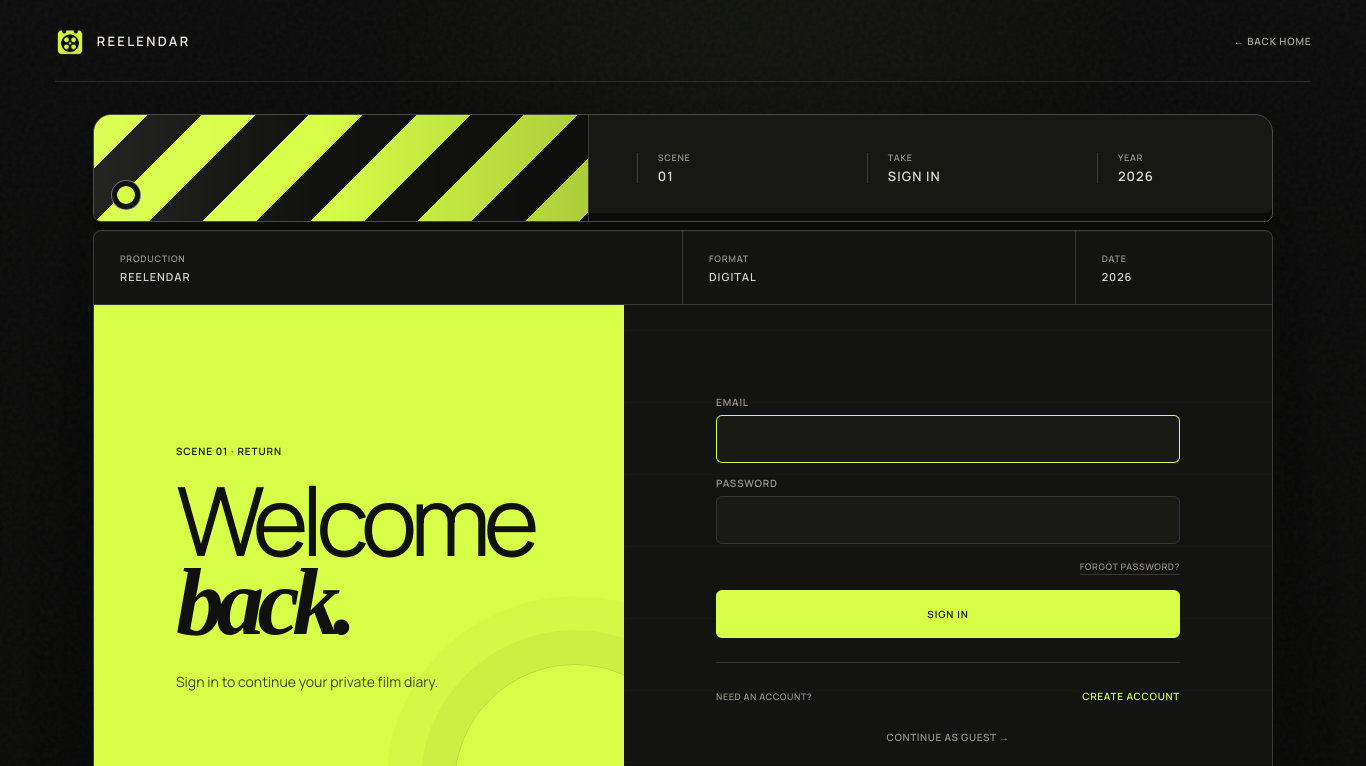
Test: LoginPage account recovery and registration › shows a success toast after creating an account that needs email confirmation
This screenshot has width=1366, height=766.
Click the button "CREATE ACCOUNT".
click(1131, 696)  # box [1082,684,1180,708]
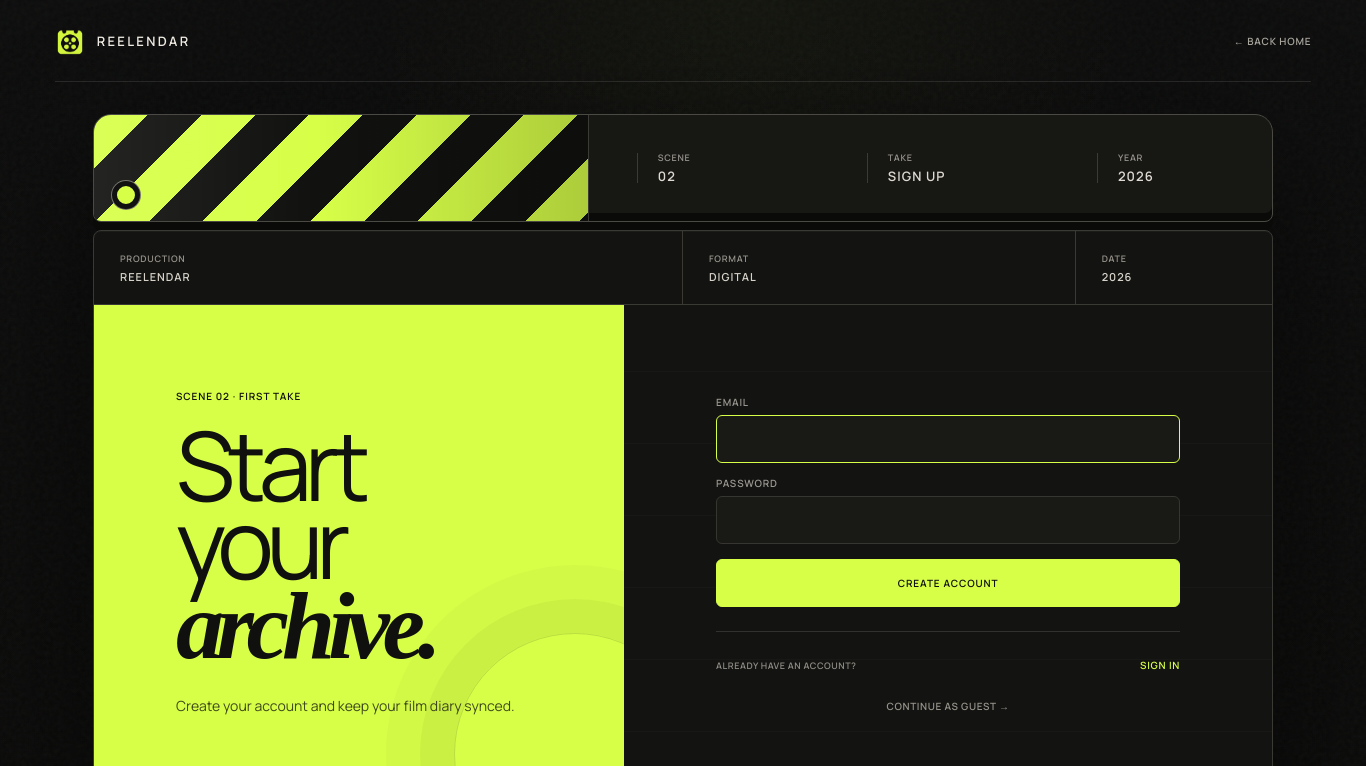
Type "viewer@example.com" into the field labelled "EMAIL".
click(948, 439); type("viewer@example.com")  # box [716,415,1180,463]
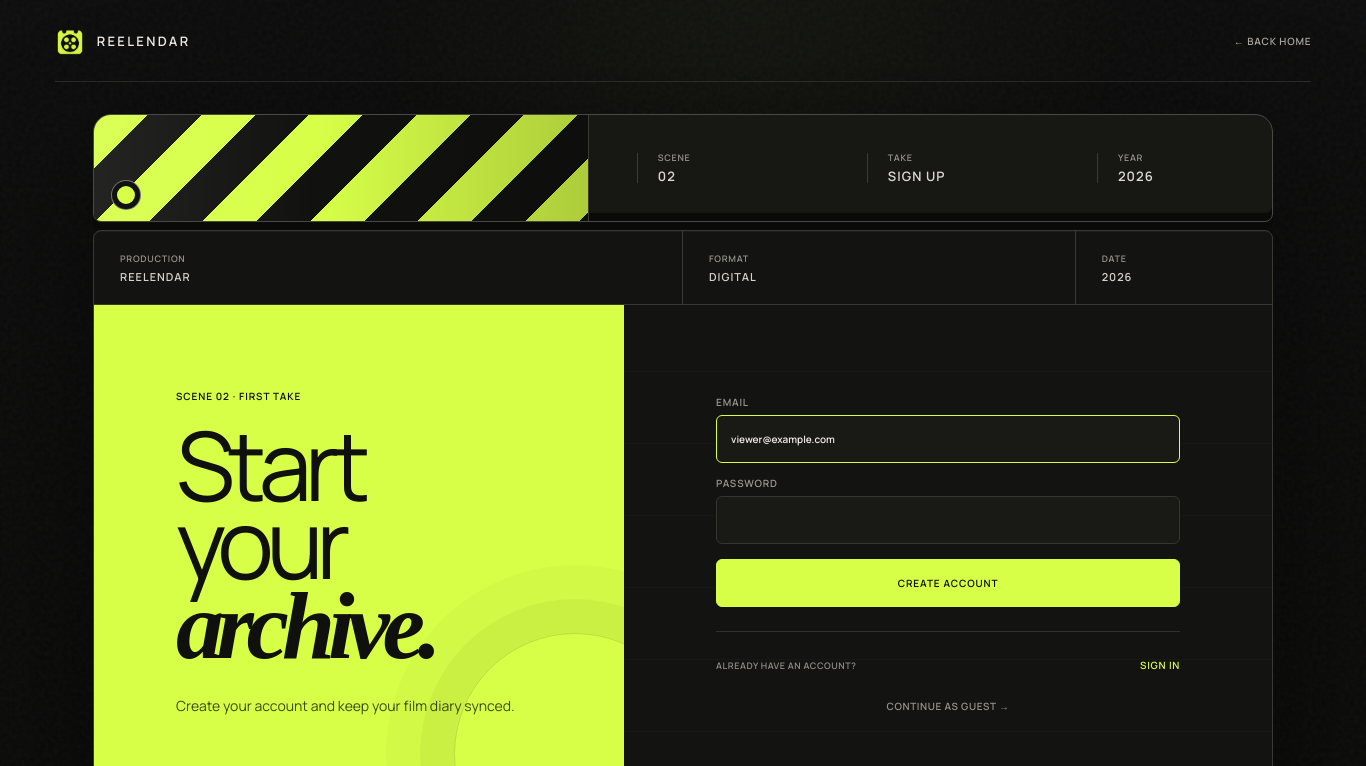
Type "a-secure-password" into the password field labelled "PASSWORD".
click(948, 520); type("a-secure-password")  # box [716,496,1180,544]
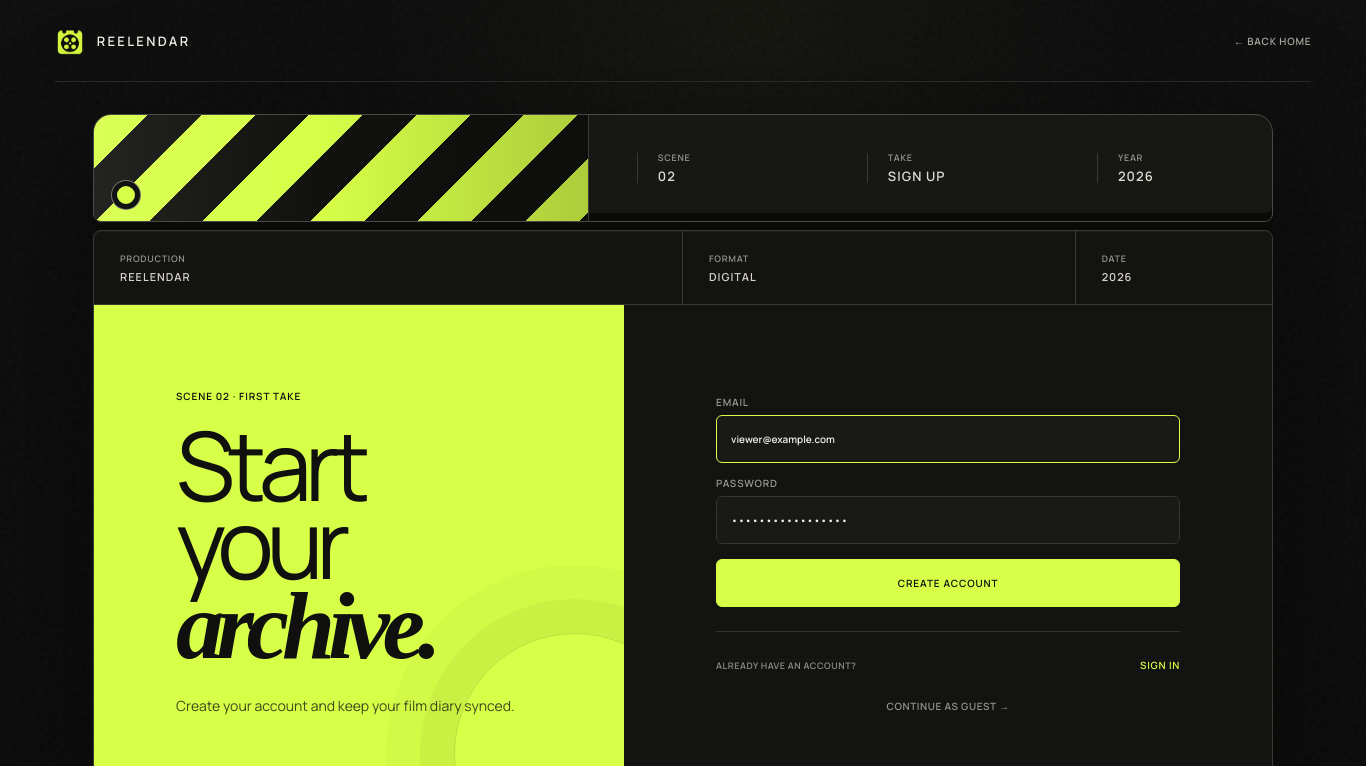
Click the button "CREATE ACCOUNT".
click(948, 583)  # box [716,559,1180,607]
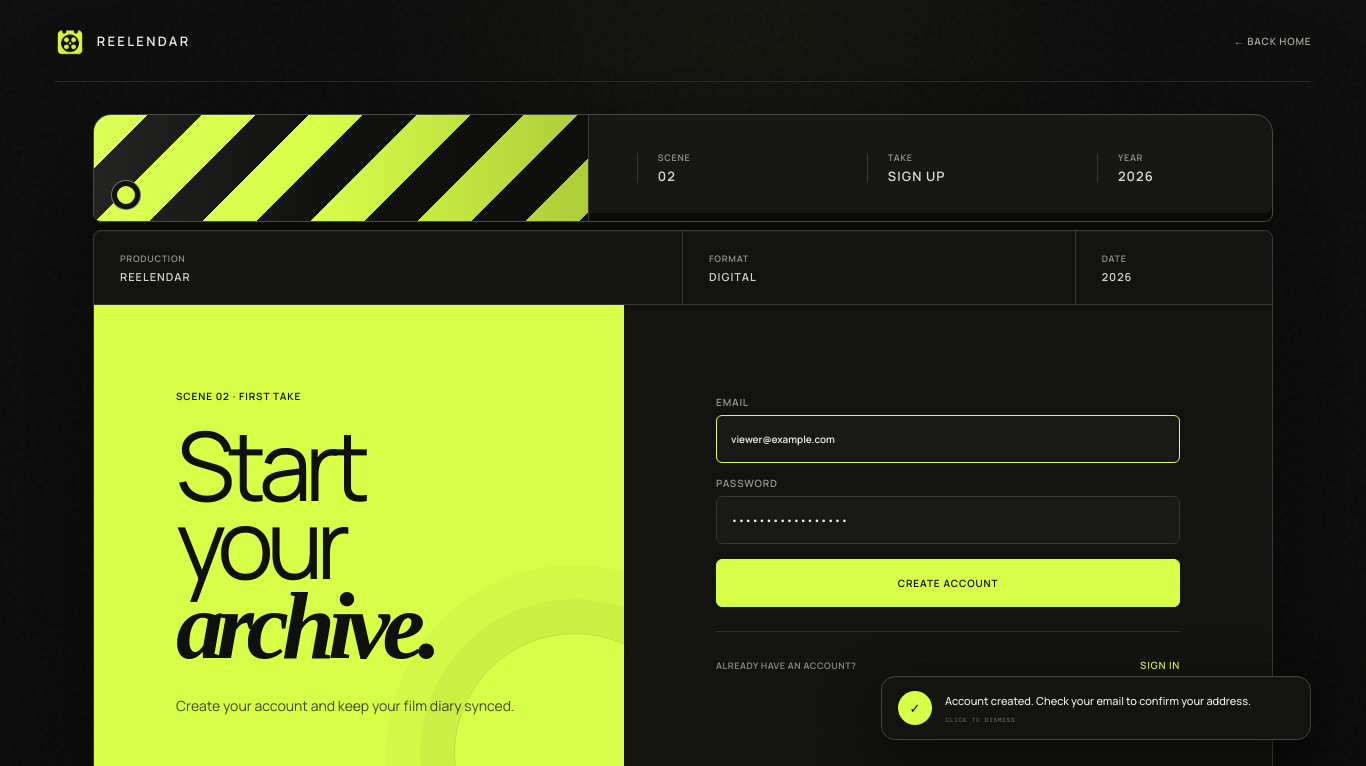
Expected: the text "Account created. Check your email to confirm your address." is shown, [945,693,1294,709]
